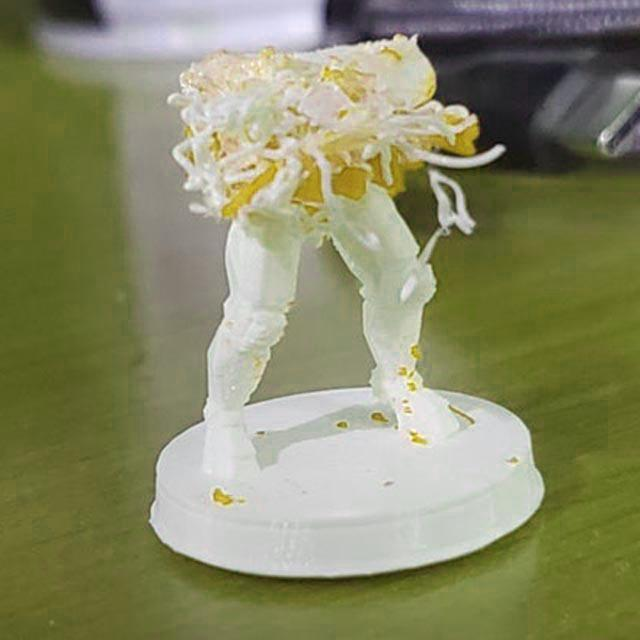spaghetti: (168, 33, 508, 237)
